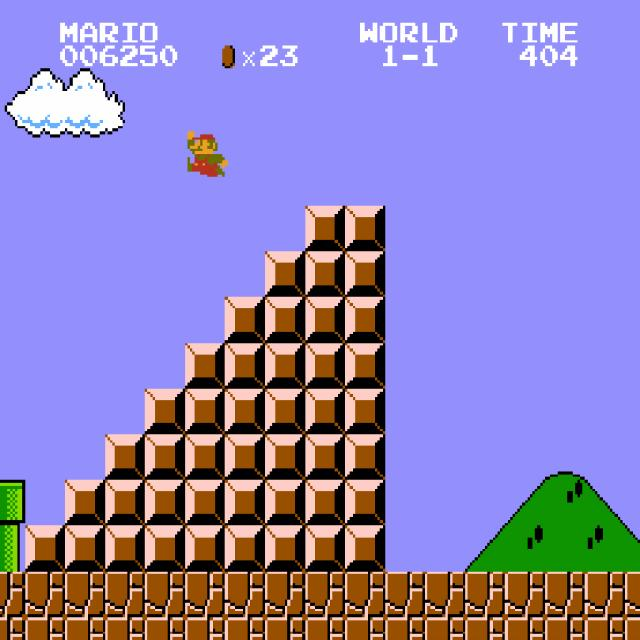hard_block: (65, 480, 105, 526), (105, 434, 145, 480), (105, 480, 145, 526), (145, 434, 185, 480), (145, 480, 185, 526), (185, 434, 225, 480), (185, 480, 225, 526), (225, 297, 265, 343), (225, 434, 265, 480), (225, 480, 265, 526), (265, 297, 305, 343), (265, 434, 305, 480), (265, 480, 305, 526), (305, 297, 345, 343), (305, 434, 345, 480), (305, 480, 345, 526), (345, 297, 385, 343), (345, 434, 385, 480), (345, 480, 385, 526), (25, 526, 65, 571), (65, 526, 105, 571), (105, 526, 145, 571), (145, 389, 185, 434), (145, 526, 185, 571), (185, 343, 225, 388), (185, 389, 225, 434), (185, 526, 225, 571), (225, 343, 265, 388), (225, 389, 265, 434), (225, 526, 265, 571), (265, 252, 305, 297), (265, 343, 305, 388), (265, 389, 305, 434), (265, 526, 305, 571), (305, 206, 345, 251), (305, 252, 345, 297), (305, 343, 345, 388), (305, 389, 345, 434), (305, 526, 345, 571), (345, 206, 385, 251), (345, 252, 385, 297), (345, 343, 385, 388), (345, 389, 385, 434), (345, 526, 385, 571)
little_mario: (185, 129, 227, 177)
pipe: (0, 525, 25, 571)
pipe_head: (0, 480, 25, 525)
undestructible_block: (25, 572, 65, 617), (65, 572, 105, 617), (105, 572, 145, 617), (145, 572, 185, 617), (185, 572, 225, 617), (225, 572, 265, 617), (265, 572, 305, 617), (305, 572, 345, 617), (345, 572, 385, 617), (385, 572, 425, 617), (425, 572, 465, 617), (465, 572, 505, 617), (505, 572, 545, 617), (545, 572, 585, 617), (585, 572, 625, 617), (0, 571, 25, 617), (25, 617, 65, 640), (65, 617, 105, 640), (105, 617, 145, 640), (145, 617, 185, 640), (185, 617, 225, 640), (225, 617, 265, 640), (265, 617, 305, 640), (305, 617, 345, 640), (345, 617, 385, 640), (385, 617, 425, 640), (425, 617, 465, 640), (465, 617, 505, 640), (505, 617, 545, 640), (545, 617, 585, 640), (585, 617, 625, 640), (625, 572, 640, 617), (0, 617, 25, 639), (625, 617, 640, 640)
